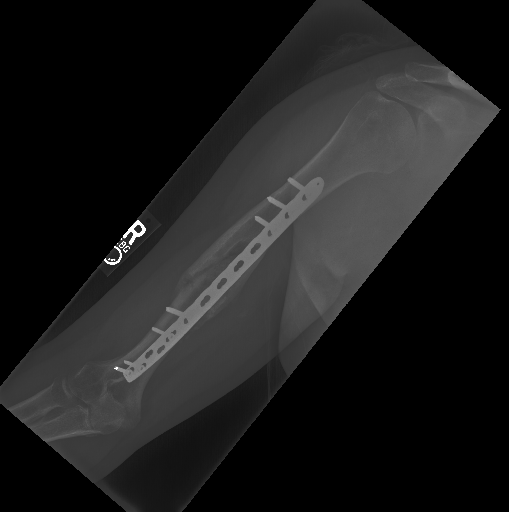implant: (114, 296, 194, 384), (248, 172, 327, 234)
